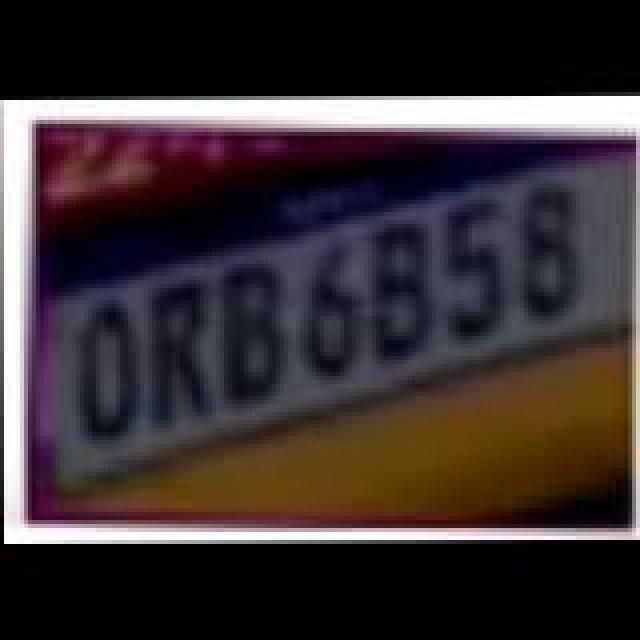5: (444, 200, 512, 340)
6: (300, 240, 368, 380)
8: (516, 184, 584, 320)
B: (218, 262, 290, 406), (368, 220, 436, 360)
O: (76, 296, 144, 440)
R: (142, 276, 214, 424)
